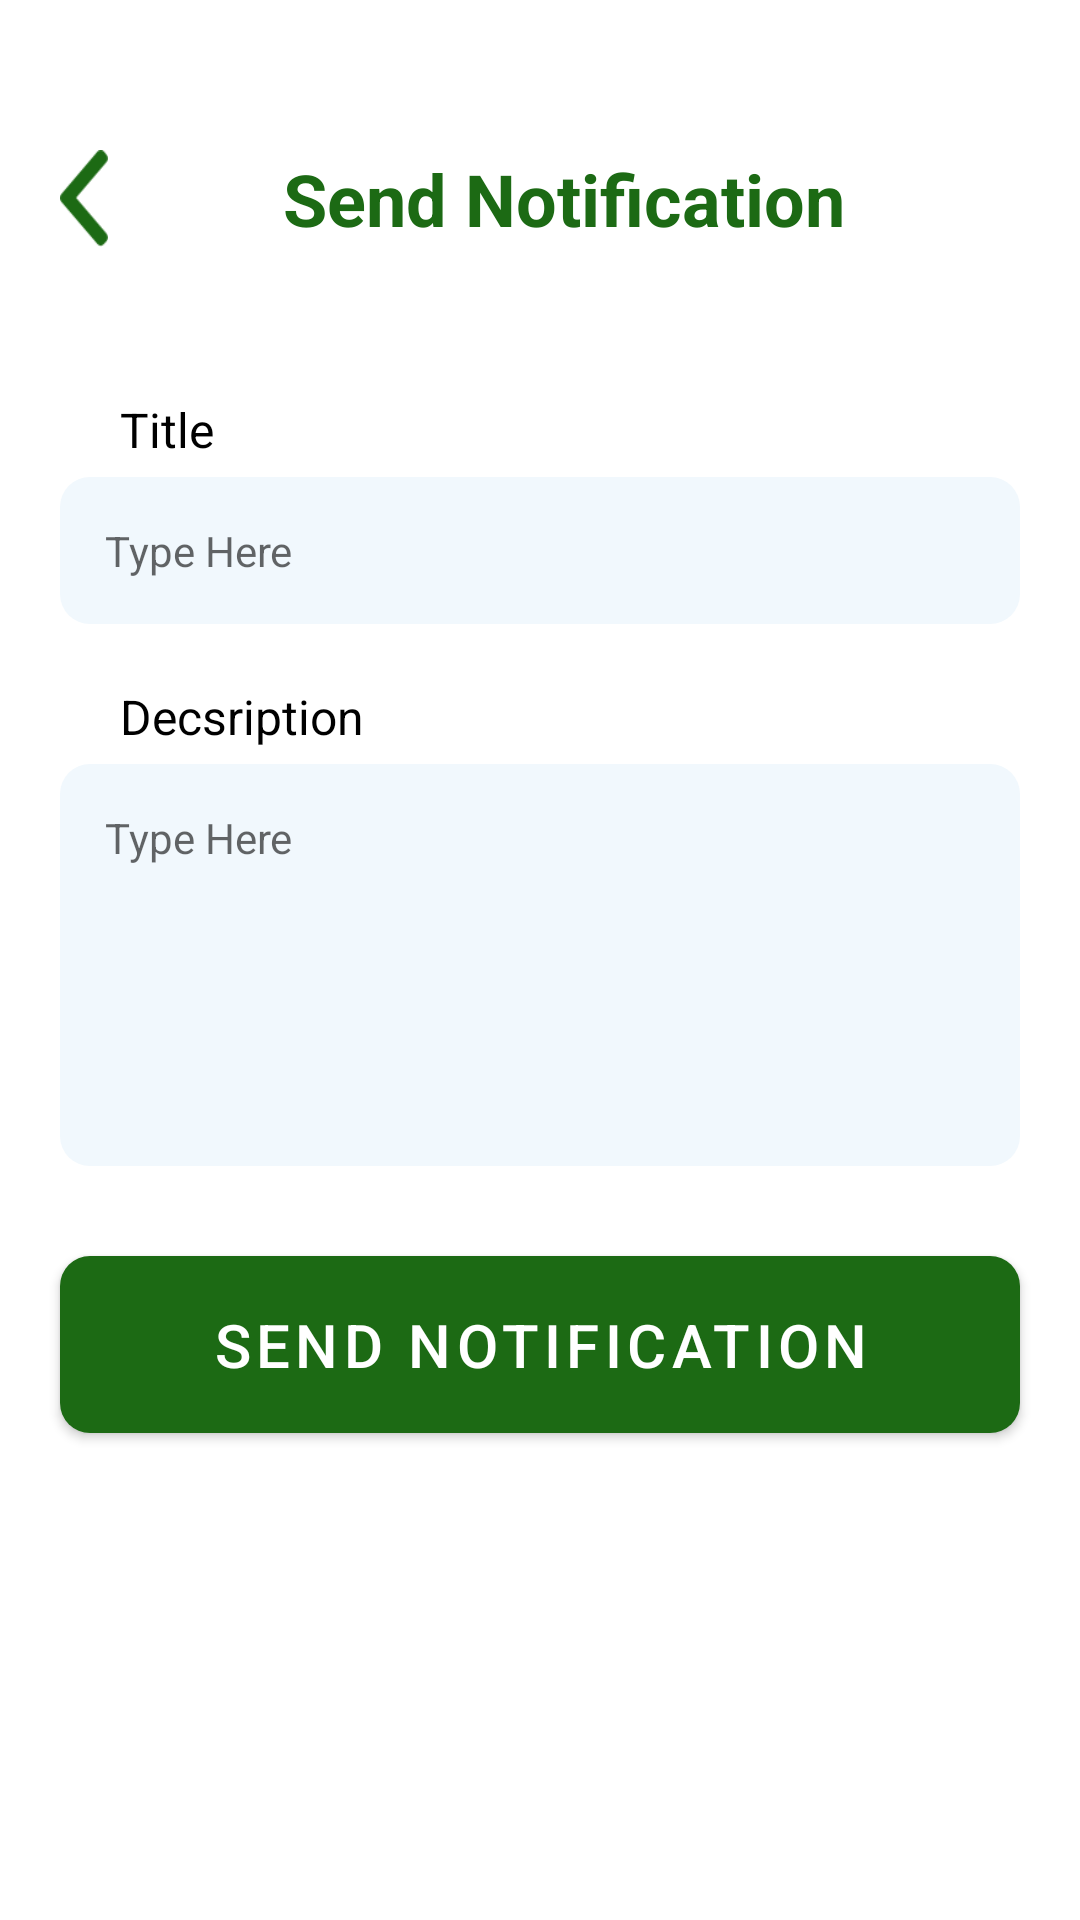

Icons on this 1080 × 1920 Android screen, each with the point to tap as (x,y):
backarrow: (84,198)
